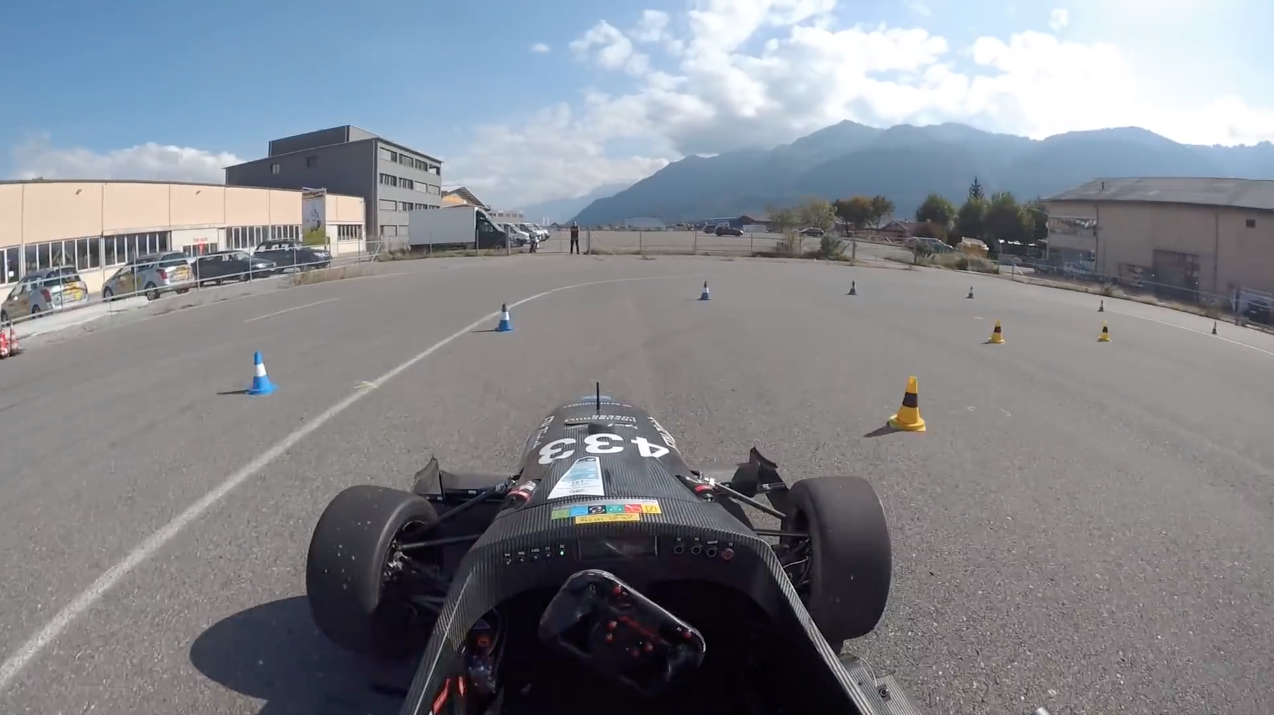lcone: (243, 348, 279, 398), (496, 299, 519, 331), (696, 280, 714, 305)
rcone: (885, 370, 935, 435), (985, 316, 1011, 348)
